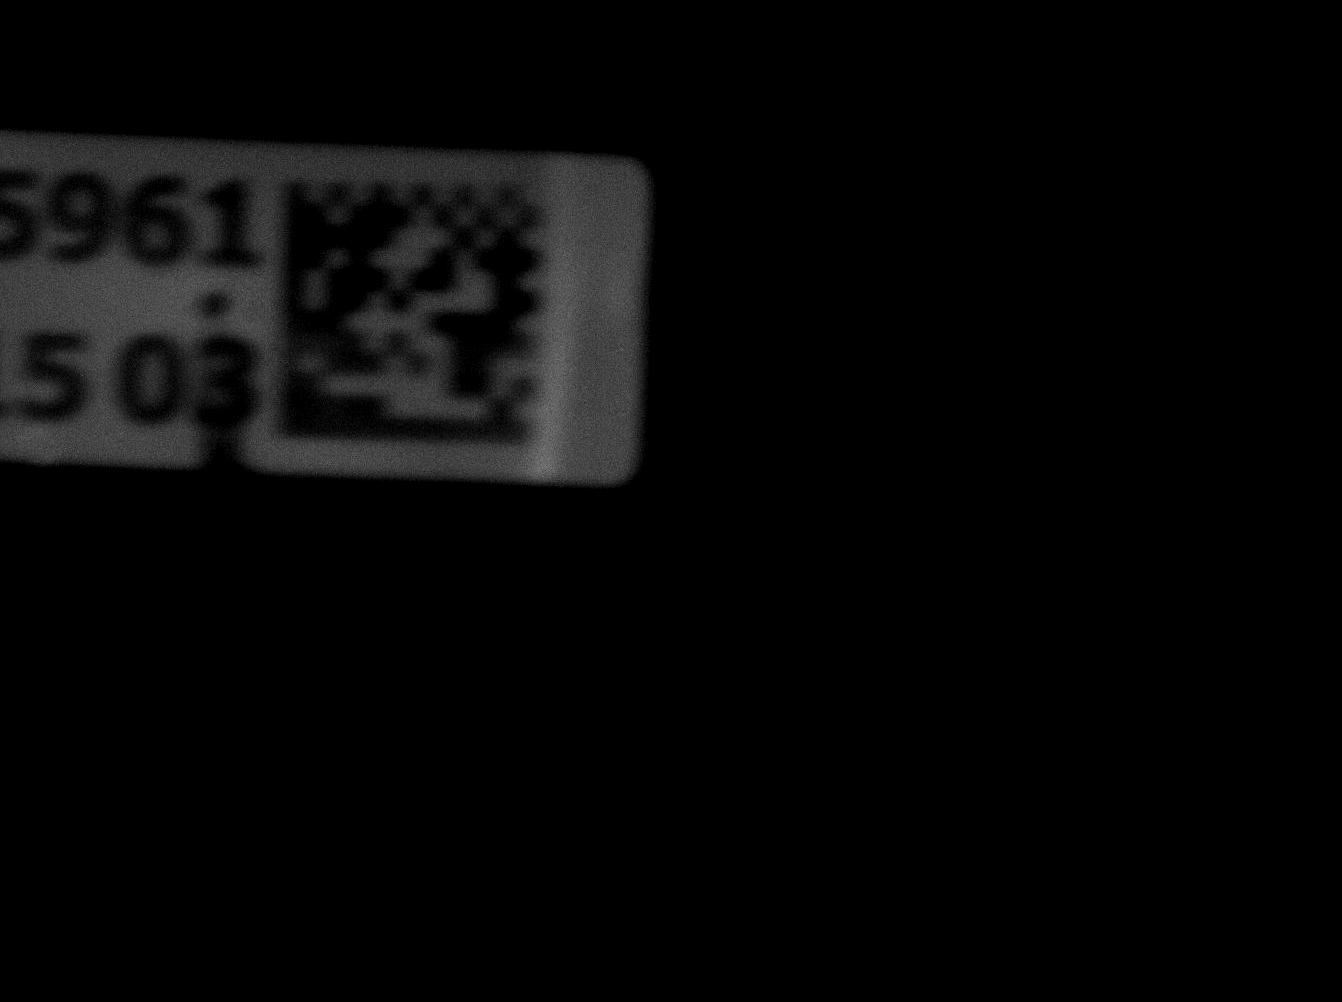data matrix: (264, 164, 552, 462)
